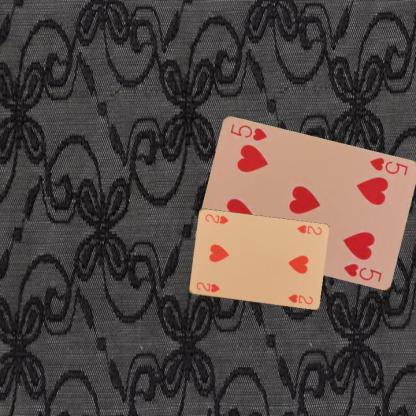2h: (294, 222, 323, 236), (194, 280, 221, 294)
5h: (366, 155, 409, 177)
